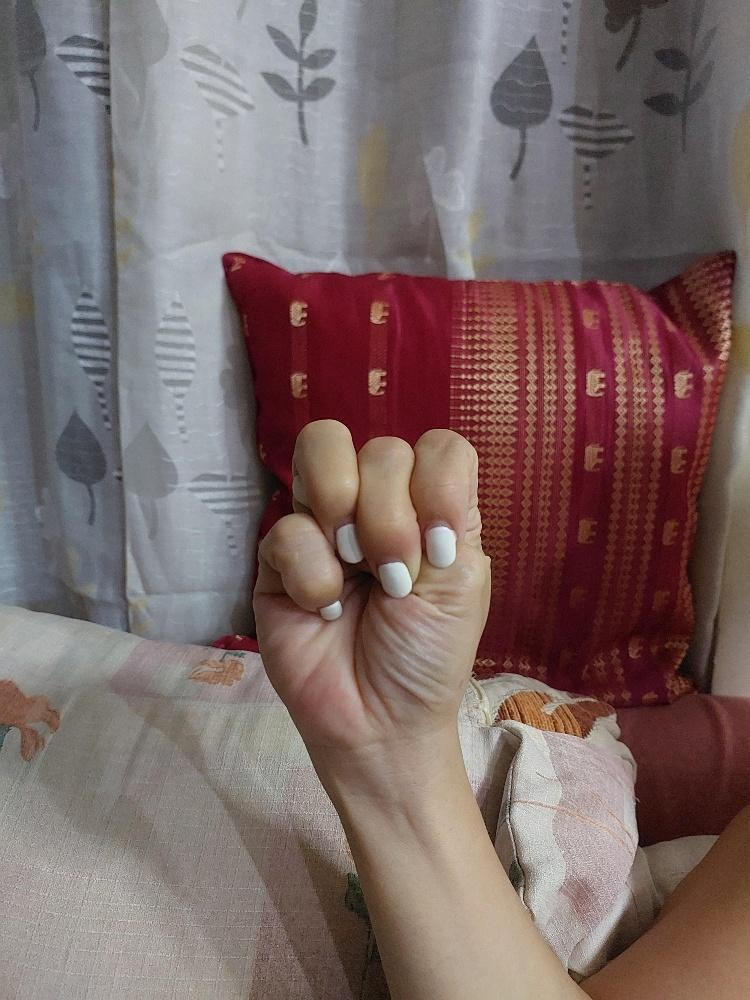m: (250, 415, 494, 751)
